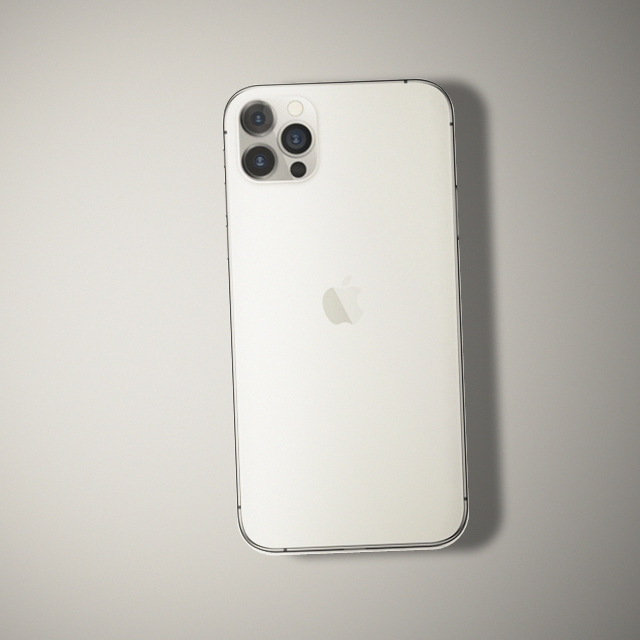iphone_12pro_silver: (167, 36, 490, 588), (224, 90, 334, 195)
